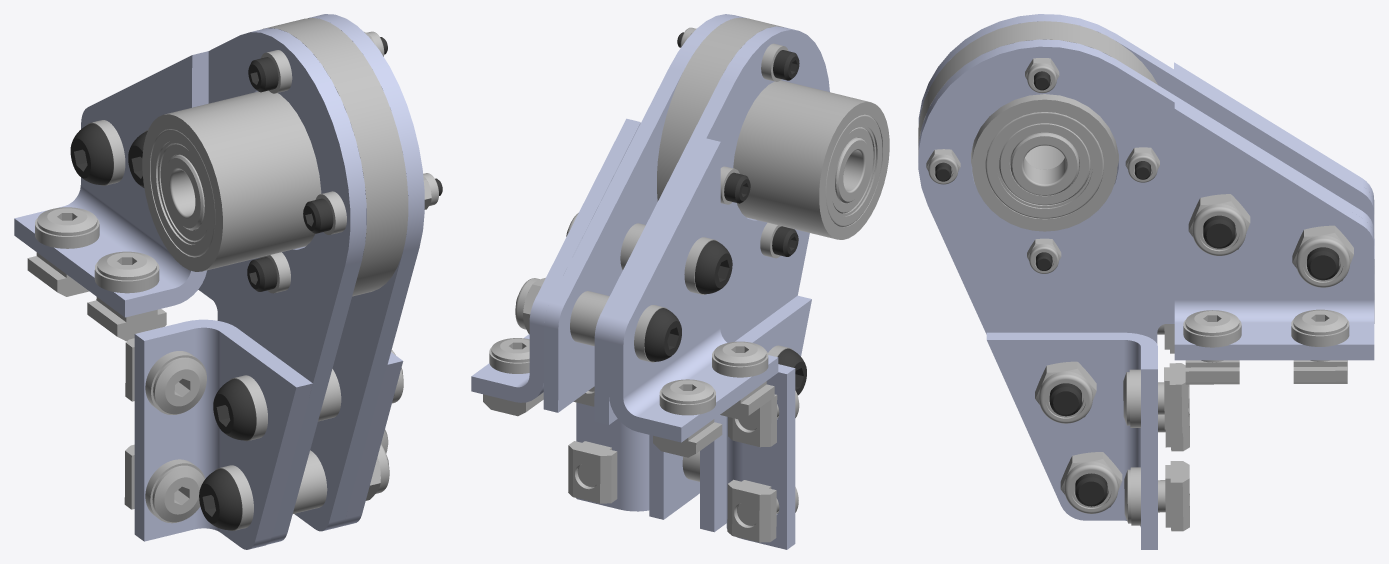
Rendered from pillow_block.glb.
3 renders of one model, left to right at view 1: azimuth 30°, elevation 25°; view 2: azimuth 150°, elevation 25°; view 3: azimuth 270°, elevation 25°, orthographic. The views are drawn at different scales.
Parts seen in each view (by area): view 1: pillow_block; view 2: pillow_block; view 3: pillow_block.
Part boxes in pixels (box(x1,y1,x2,y2)): pillow_block: box(14, 14, 442, 549); pillow_block: box(471, 14, 889, 549); pillow_block: box(918, 14, 1374, 549).
Bounding box in the file's own units: 0.0501 × 0.0955 × 0.0846.
